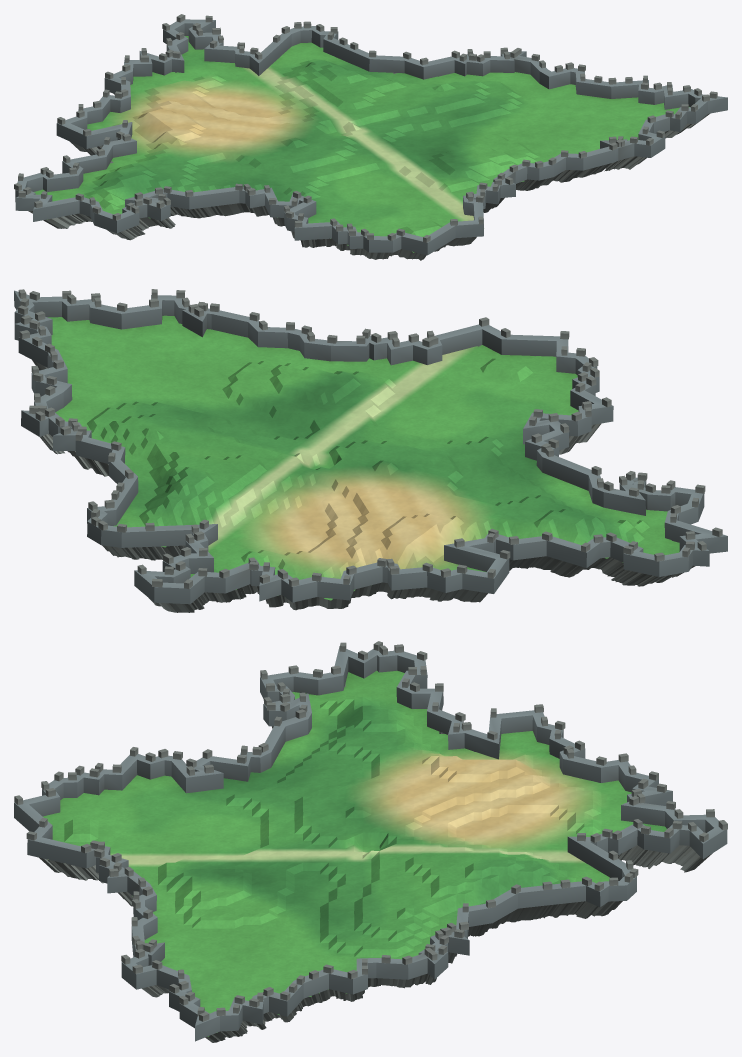
3 views of the same model, one above another, from view 1: azimuth 30°, elevation 25°; view 2: azimuth 150°, elevation 25°; view 3: azimuth 270°, elevation 25° (orthographic). The views are drawn at different scales.
Parts seen in each view (by area): view 1: ground_77617e4b; view 2: ground_77617e4b; view 3: ground_77617e4b.
Boxes of the visible parts, left/top/right/bottom form: ground_77617e4b: left=14, top=14, right=727, bottom=260; ground_77617e4b: left=14, top=289, right=727, bottom=612; ground_77617e4b: left=14, top=641, right=727, bottom=1042.
Size of the model in its own units: 159 by 7.71 by 126.
2 materials, 1 textured.
